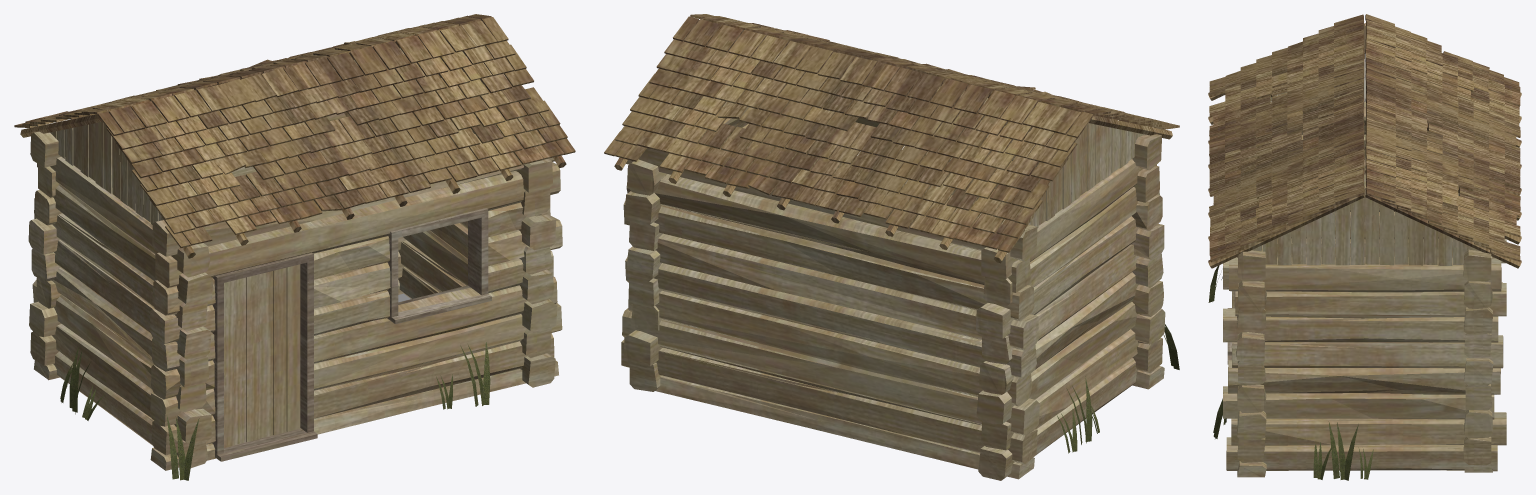
Rendered from cabin.fbx.
3 renders of one model, left to right at view 1: azimuth 30°, elevation 25°; view 2: azimuth 150°, elevation 25°; view 3: azimuth 270°, elevation 25°, orthographic. The views are drawn at different scales.
Visible parts, largest first — view 1: Object_pine_yellow.jpg, Object_pine_green.jpg, Object_pine_light.jpg, Object_grass_overcast.jpg; view 2: Object_pine_yellow.jpg, Object_pine_green.jpg, Object_grass_overcast.jpg; view 3: Object_pine_yellow.jpg, Object_pine_green.jpg, Object_grass_overcast.jpg.
Part boxes in pixels (left/top/right/bottom): Object_pine_yellow.jpg: left=28, top=39, right=562, bottom=470; Object_pine_green.jpg: left=14, top=14, right=575, bottom=258; Object_pine_light.jpg: left=212, top=208, right=491, bottom=461; Object_grass_overcast.jpg: left=60, top=342, right=490, bottom=480; Object_pine_yellow.jpg: left=621, top=30, right=1165, bottom=480; Object_pine_green.jpg: left=604, top=14, right=1179, bottom=263; Object_grass_overcast.jpg: left=1057, top=324, right=1179, bottom=453; Object_pine_yellow.jpg: left=1223, top=23, right=1506, bottom=477; Object_pine_green.jpg: left=1208, top=14, right=1521, bottom=268; Object_grass_overcast.jpg: left=1208, top=265, right=1373, bottom=480.
Bounding box in the file's own units: 2.5 × 1.81 × 1.79.
